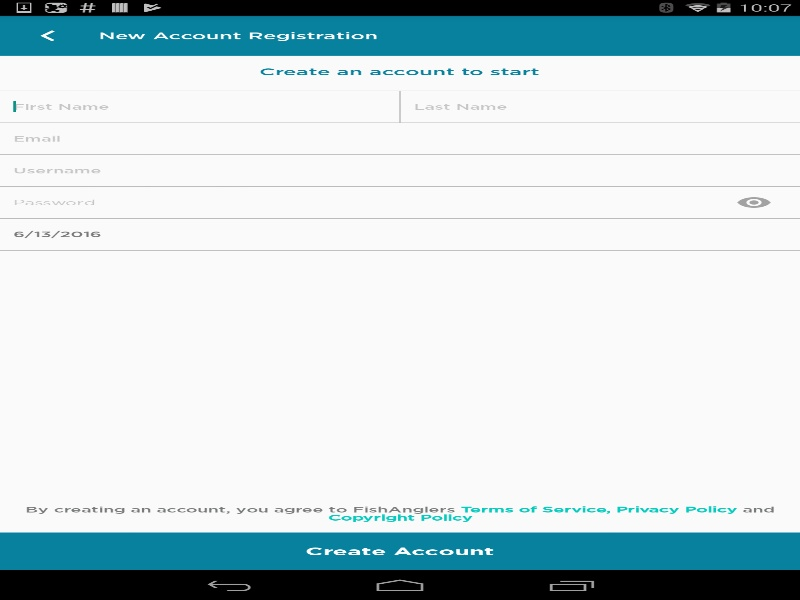Button: (10, 15, 85, 55), (730, 194, 777, 210)
Input: (0, 186, 800, 218), (0, 218, 800, 250), (0, 123, 800, 154), (0, 155, 800, 186), (400, 91, 800, 122), (0, 91, 399, 122)
